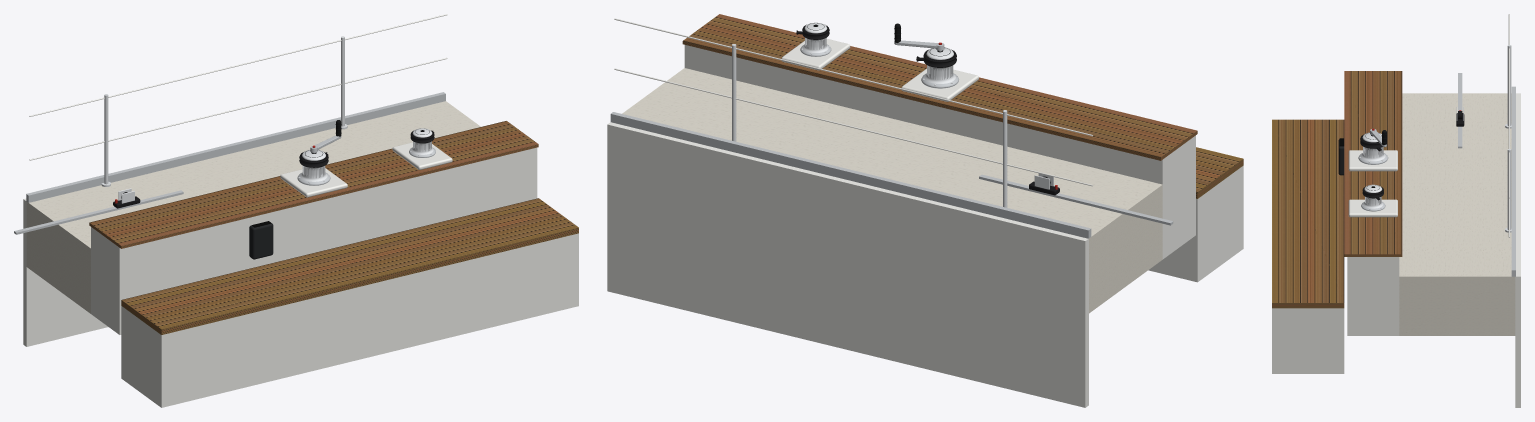
File: winch.glb
The picture shows the model from 3 angles, left to right: view 1: azimuth 30°, elevation 25°; view 2: azimuth 150°, elevation 25°; view 3: azimuth 270°, elevation 25°; orthographic projection. The views are drawn at different scales.
Size of what is drawn, in the model's own units: 3.3 by 1.62 by 1.72.
Materials: 16 (3 with a texture image).
